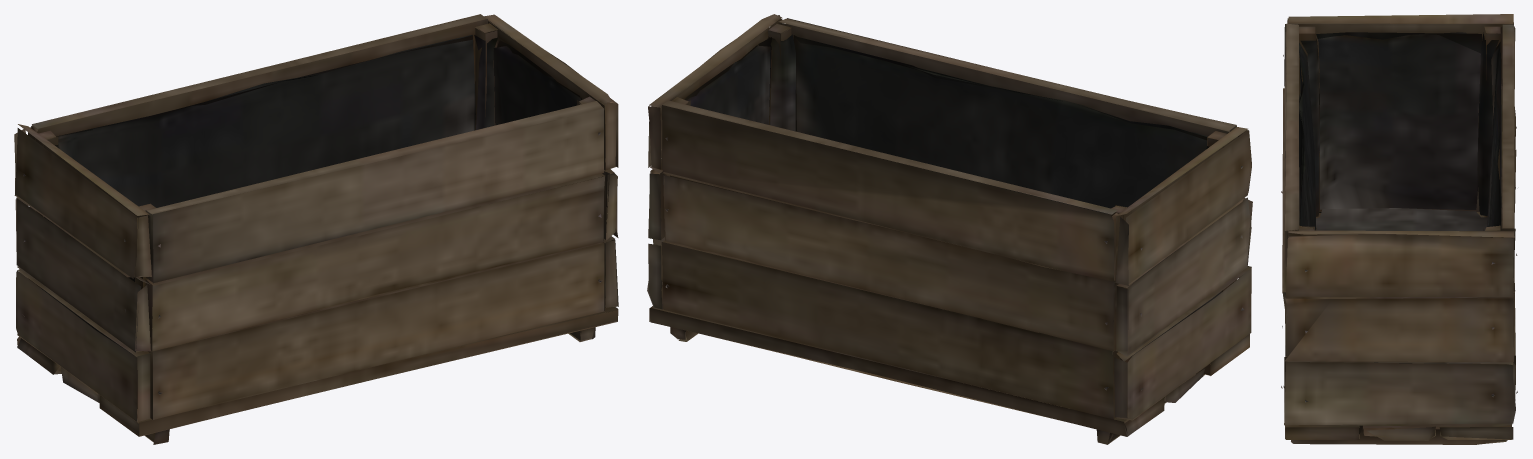
File: planter_box_01.glb
3 renders of one model, left to right at view 1: azimuth 30°, elevation 25°; view 2: azimuth 150°, elevation 25°; view 3: azimuth 270°, elevation 25°, orthographic. The views are drawn at different scales.
Parts seen in each view (by area): view 1: planter_box_01; view 2: planter_box_01; view 3: planter_box_01.
Part boxes in pixels (x1=…): planter_box_01: x1=14, y1=14, x2=618, y2=444; planter_box_01: x1=647, y1=14, x2=1252, y2=444; planter_box_01: x1=1281, y1=14, x2=1517, y2=444.
Size of the model in its own units: 0.9161 by 0.4315 by 0.417.
1 material, 1 textured.
